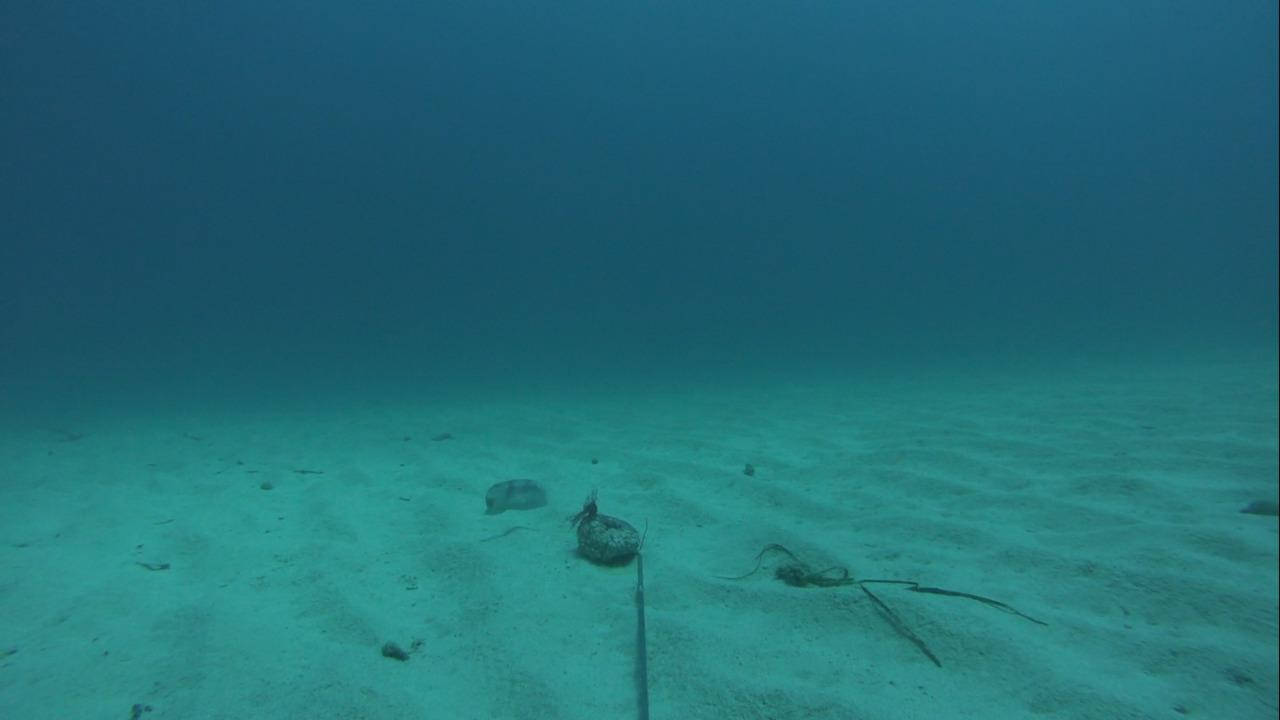raor: (475, 472, 551, 521)
